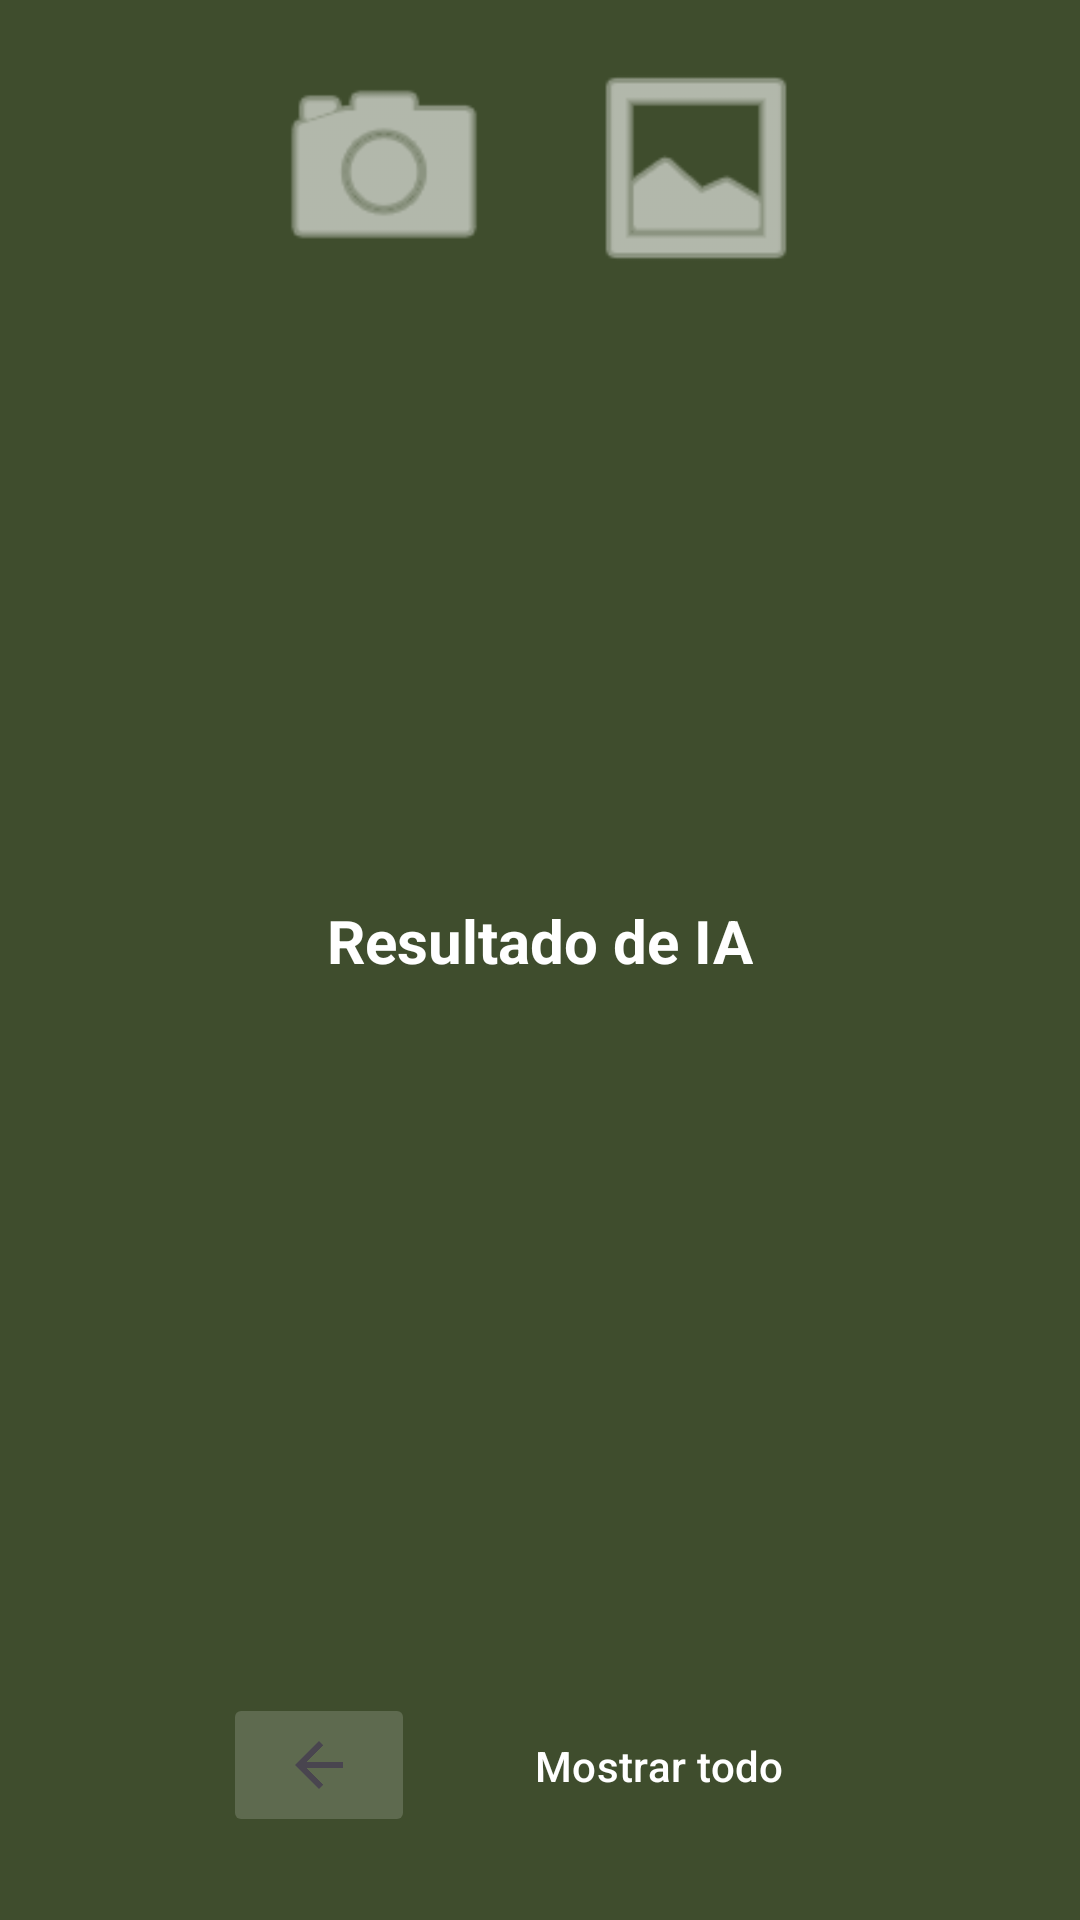

Named icons in this screenshot (1080*1920) and their centers, (x=x, y=y):
Botón para regresar: (x=319, y=1765)
Subir foto de galería: (x=696, y=168)
Tomar fotografía: (x=384, y=164)
